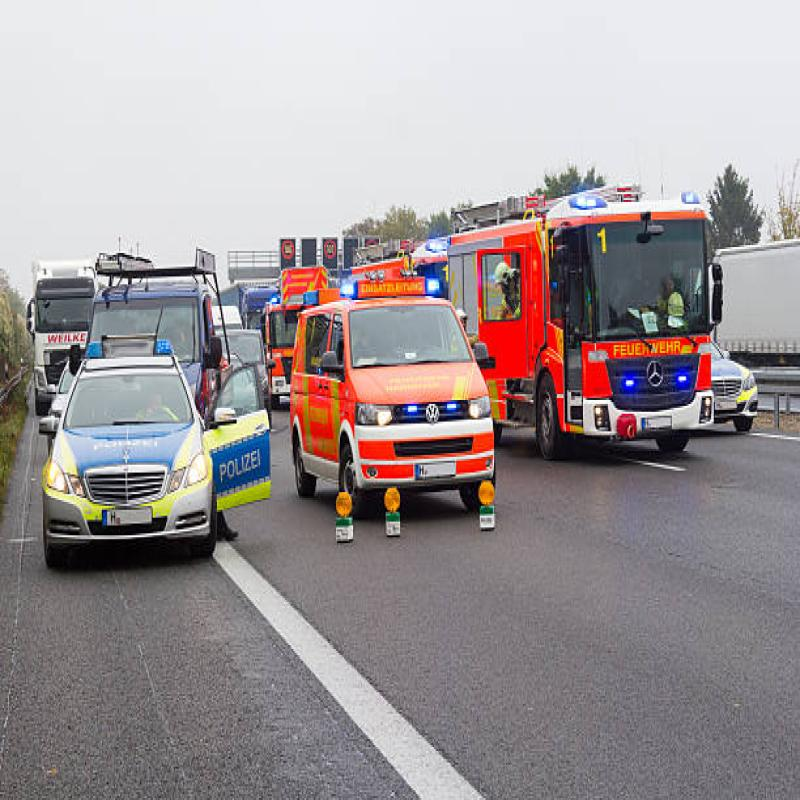AmbulanceSiren: (335, 271, 451, 313), (85, 330, 186, 370)
